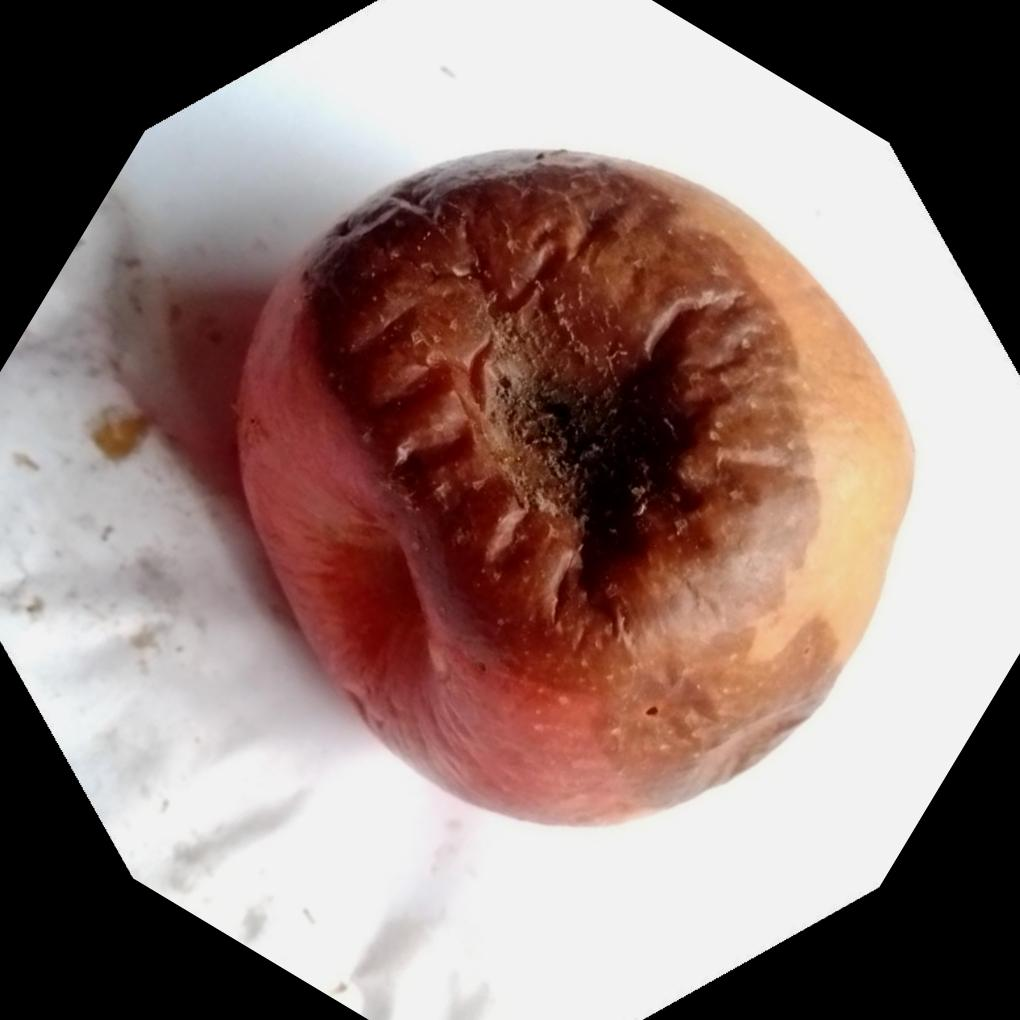FreshOrange: (223, 140, 916, 830)
